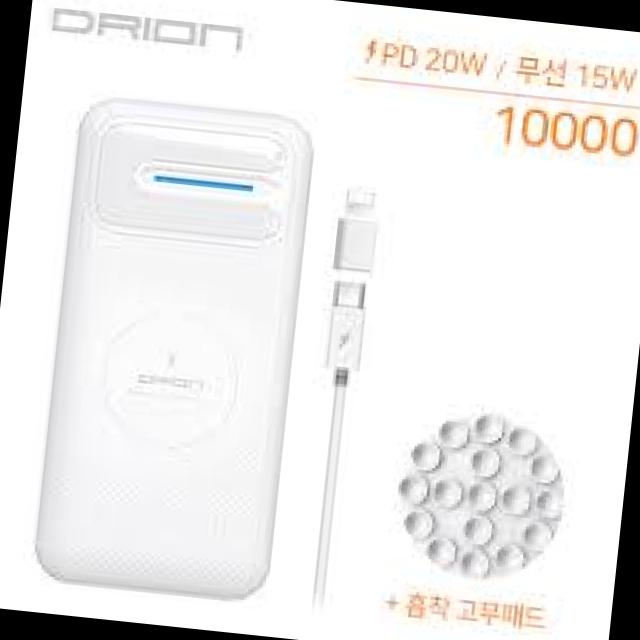portable-charger: (28, 87, 322, 612)
